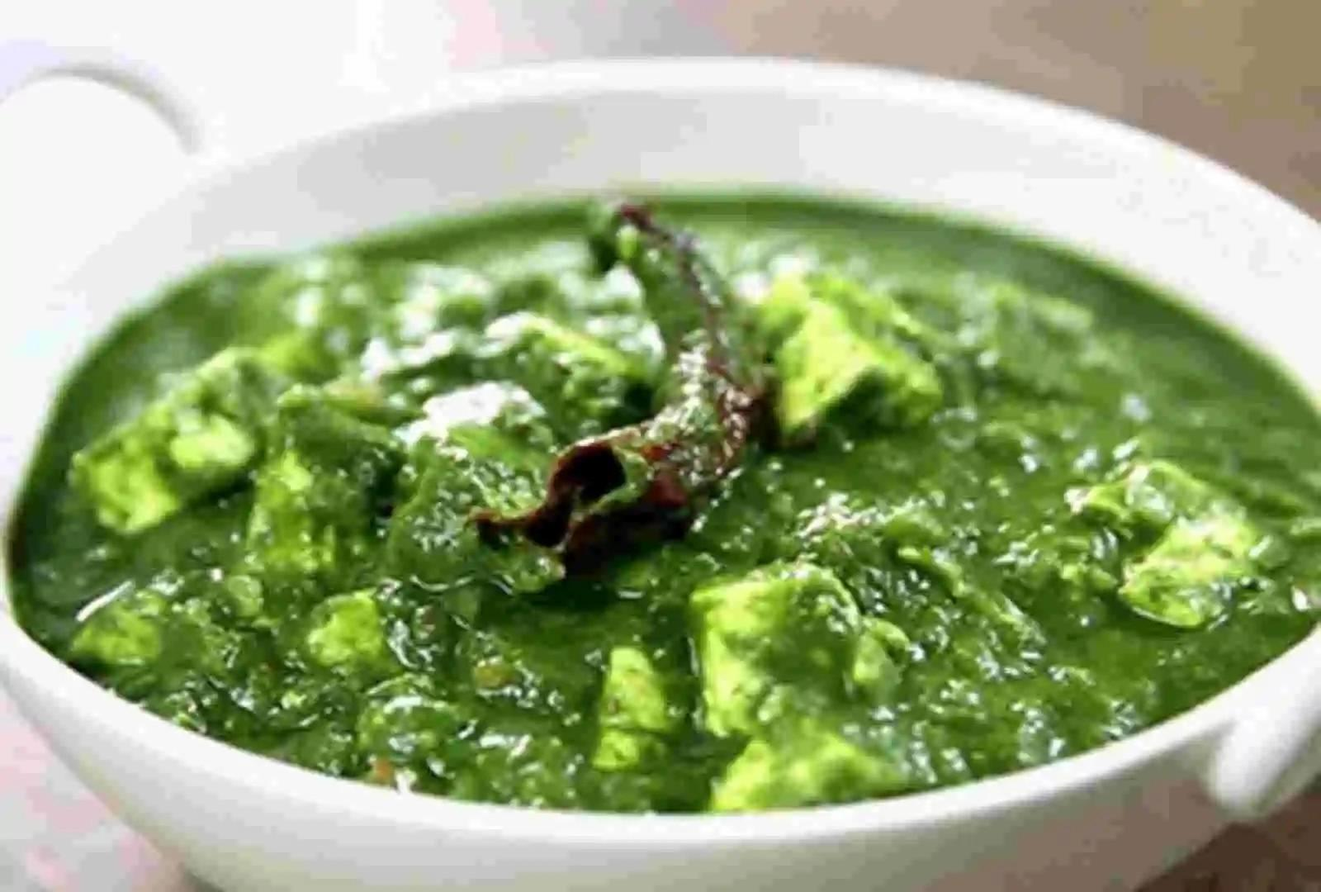PalakPaneer: (0, 185, 1321, 815)
